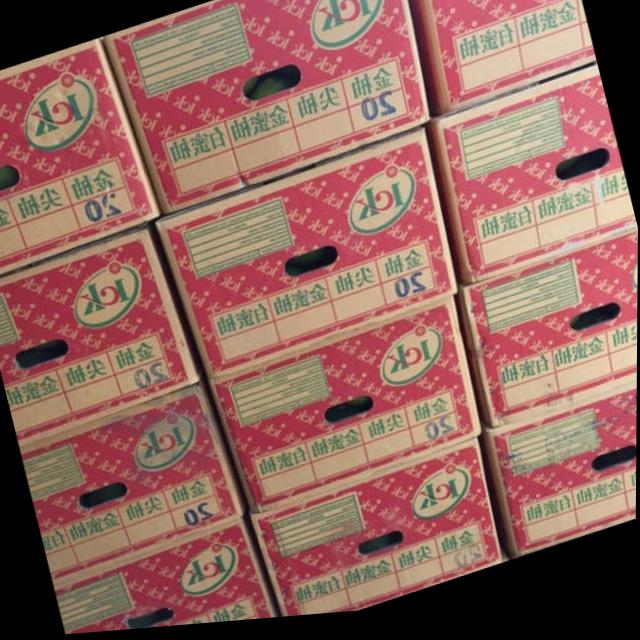box: (155, 133, 459, 383), (102, 0, 432, 218), (207, 302, 483, 519), (21, 387, 249, 585), (434, 74, 638, 295), (0, 226, 203, 444), (255, 445, 502, 622), (0, 40, 160, 273), (459, 236, 638, 438), (482, 392, 637, 566), (56, 518, 281, 635), (408, 0, 596, 128)
